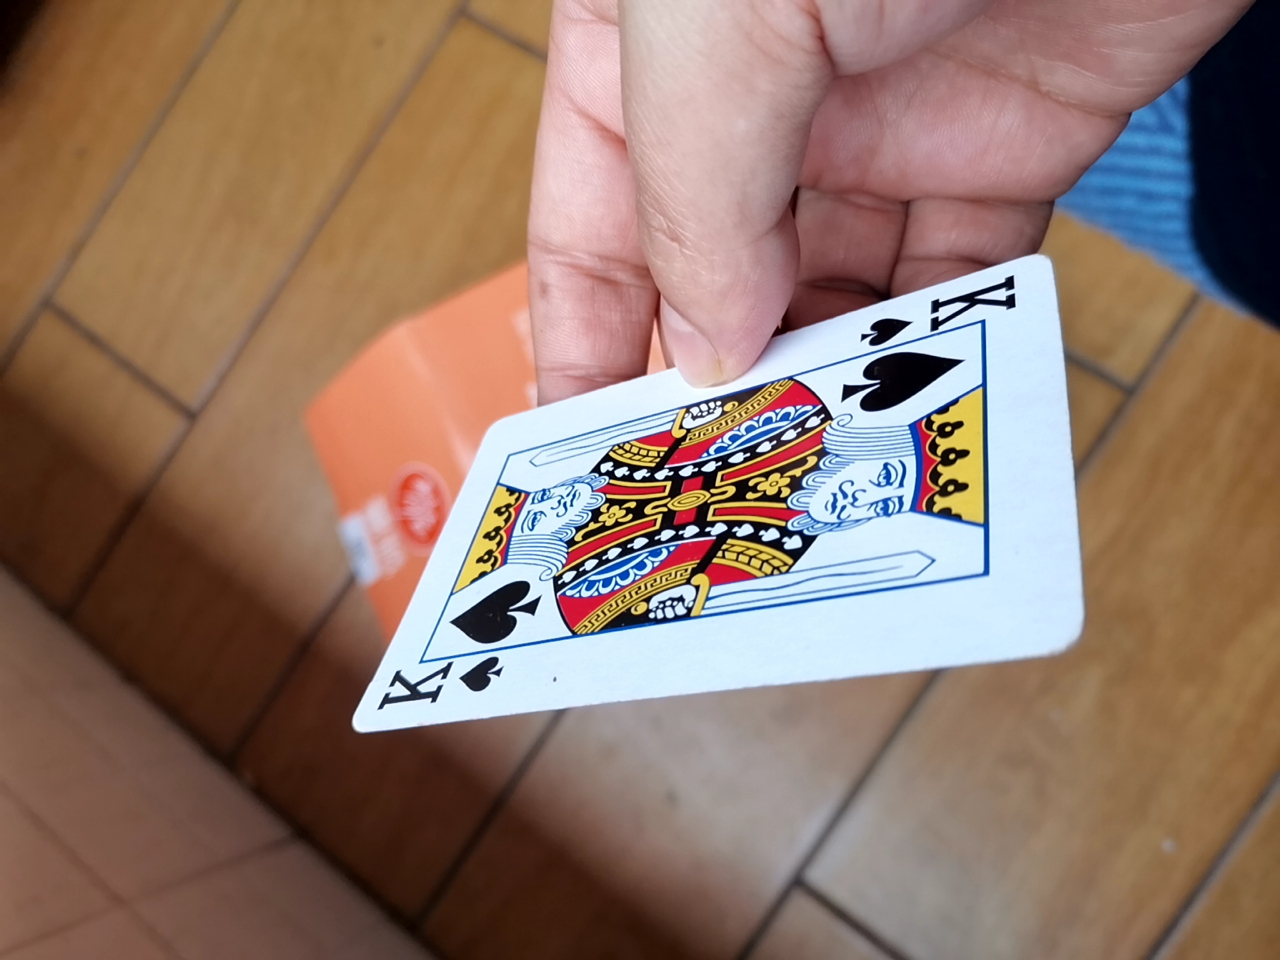ht k: (347, 262, 1079, 744)
